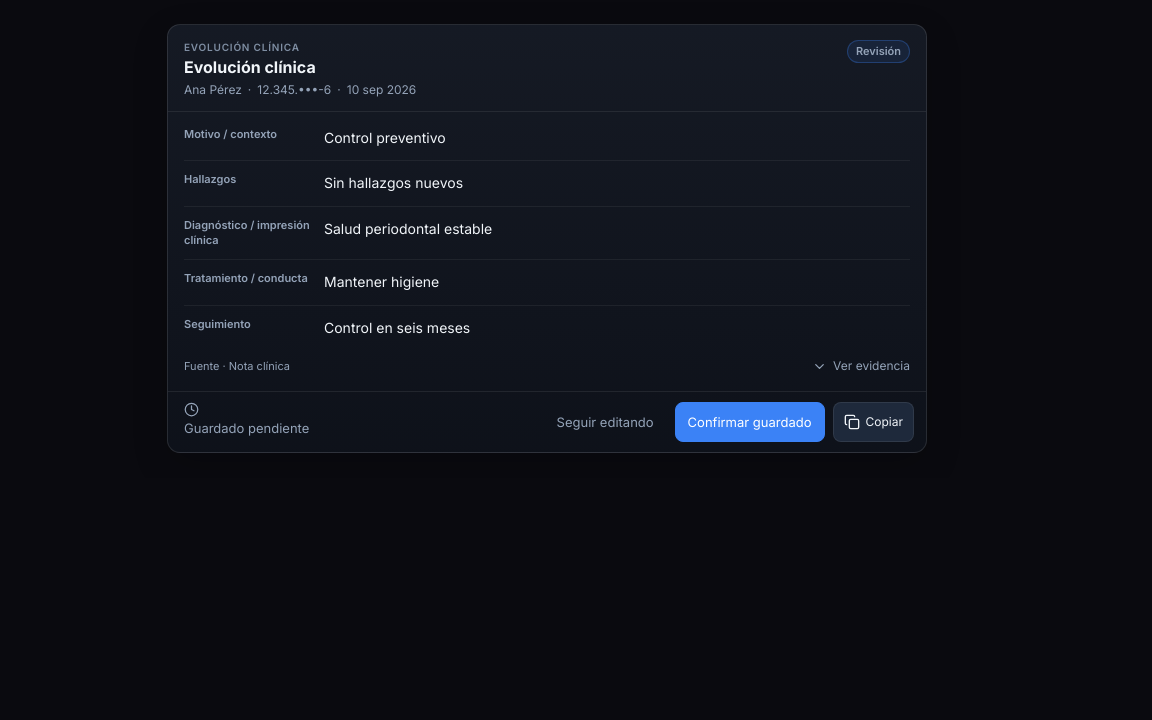
Test: ClinicalTranscript › keeps native approval dialog inside the stable artifact
Click the button "Confirmar guardado" at (750, 422), box left=675, top=402, right=824, bottom=442
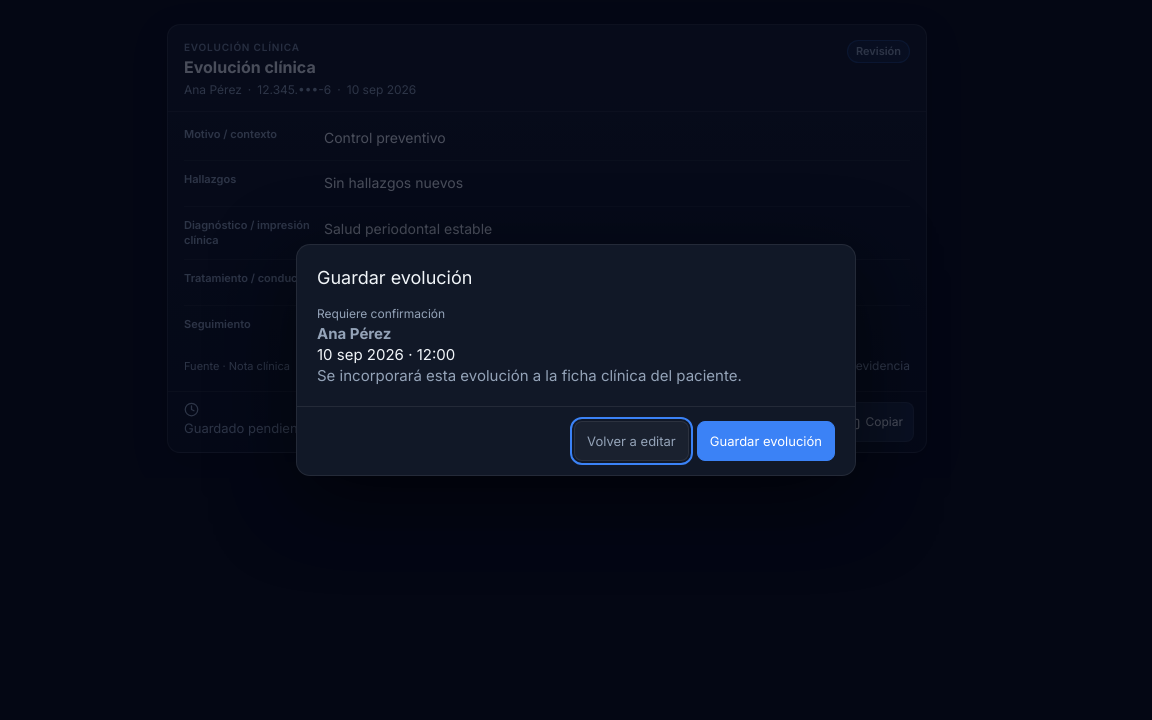
Now the dialog "Guardar evolución" is shown, box left=296, top=244, right=856, bottom=476
